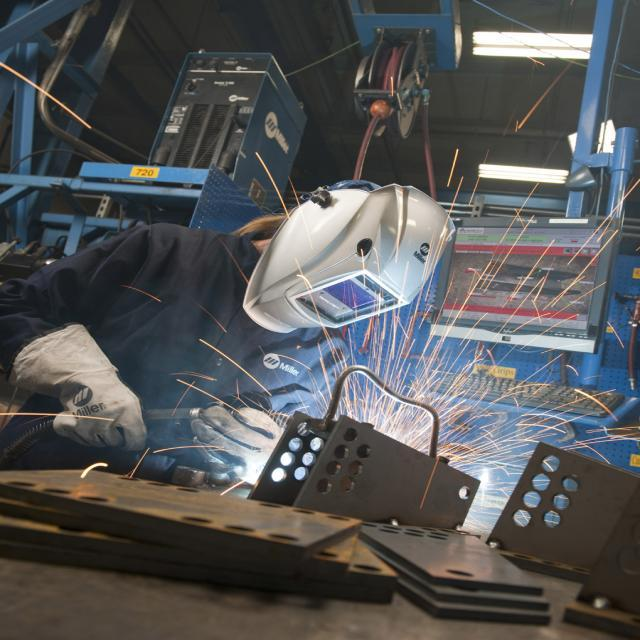with_helmet: (243, 184, 454, 332)
